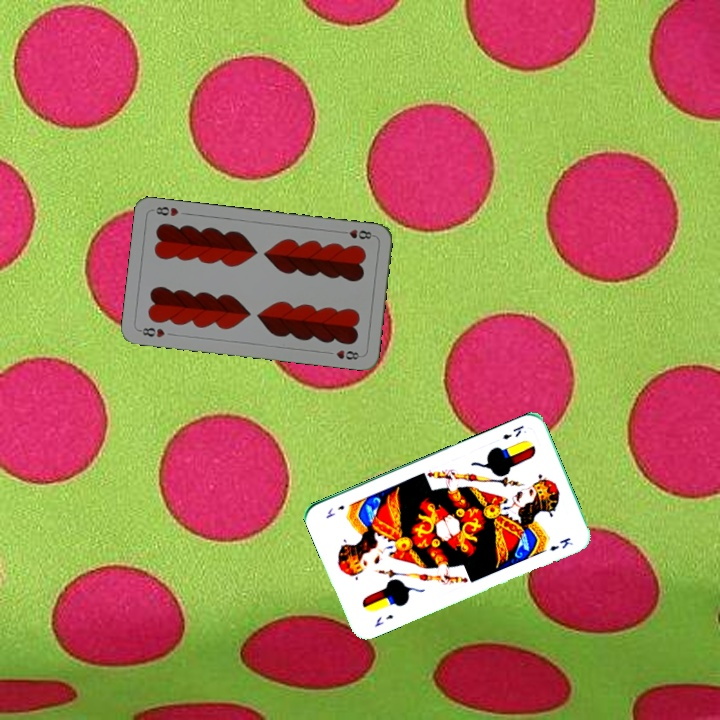EK: (498, 421, 527, 442), (370, 610, 396, 629)
H8: (336, 225, 377, 242), (135, 324, 167, 340)
